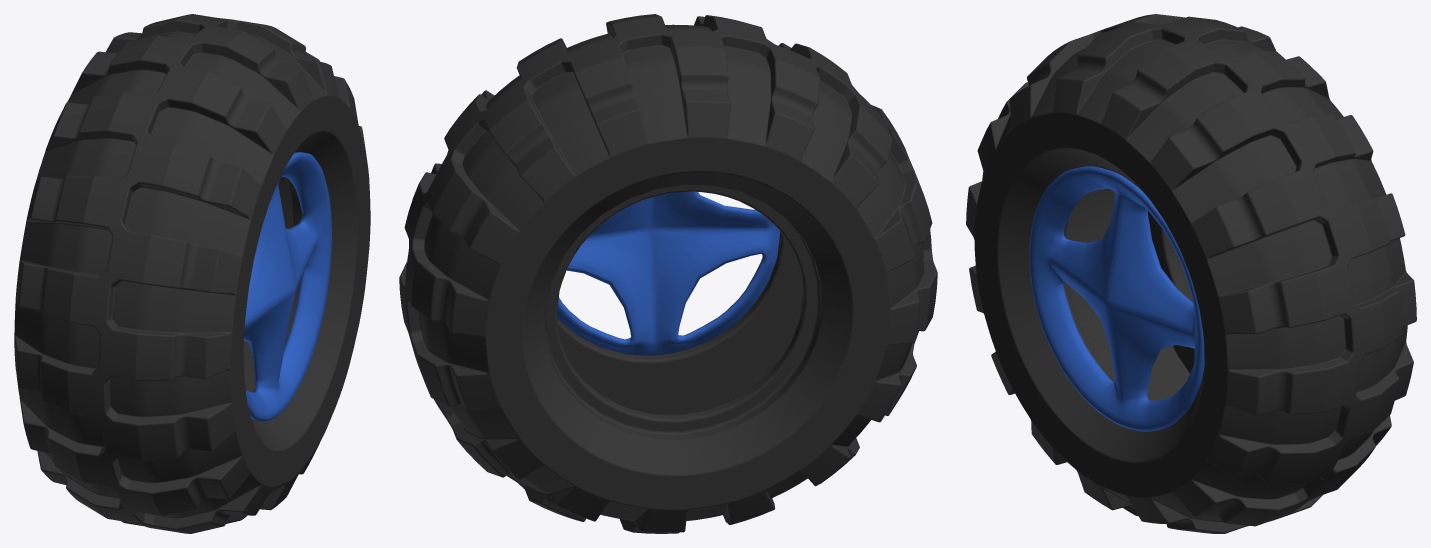
File: Offroad-llantainfder.glb
3 renders of one model, left to right at view 1: azimuth 30°, elevation 25°; view 2: azimuth 150°, elevation 25°; view 3: azimuth 270°, elevation 25°, orthographic. The views are drawn at different scales.
Visible parts, largest first — view 1: Circle002_Material #508_0; view 2: Circle002_Material #508_0; view 3: Circle002_Material #508_0.
Part boxes in pixels (x1,y1,x2,y2): Circle002_Material #508_0: (14,14,370,533); Circle002_Material #508_0: (399,14,937,533); Circle002_Material #508_0: (966,14,1416,533).
Size of the model in its own units: 53.24 by 56.87 by 49.32.
